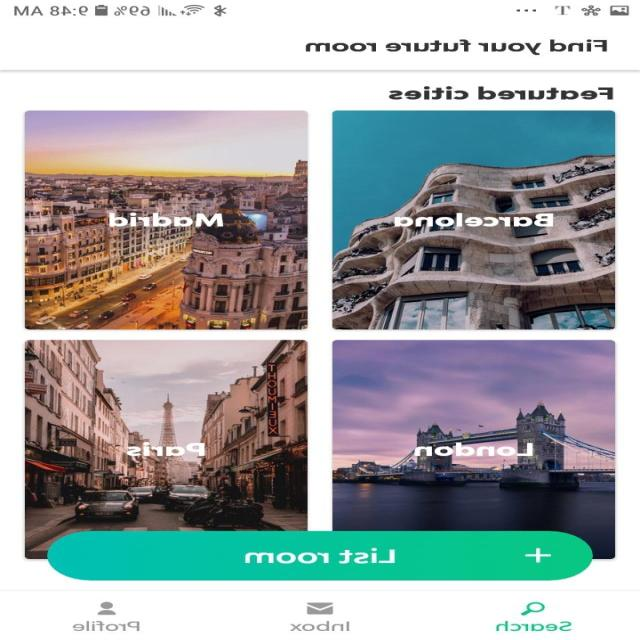Icon: (521, 602, 546, 616), (306, 602, 334, 614), (98, 601, 118, 615)
Image: (332, 339, 616, 559), (26, 110, 310, 330), (332, 110, 616, 330), (25, 340, 308, 559)
Text: (305, 38, 608, 56), (388, 86, 614, 100), (394, 212, 554, 226), (109, 212, 225, 227), (414, 442, 534, 456), (127, 441, 206, 456), (496, 620, 572, 631), (72, 620, 140, 631), (289, 620, 352, 631)
TextButton: (48, 530, 594, 580)
